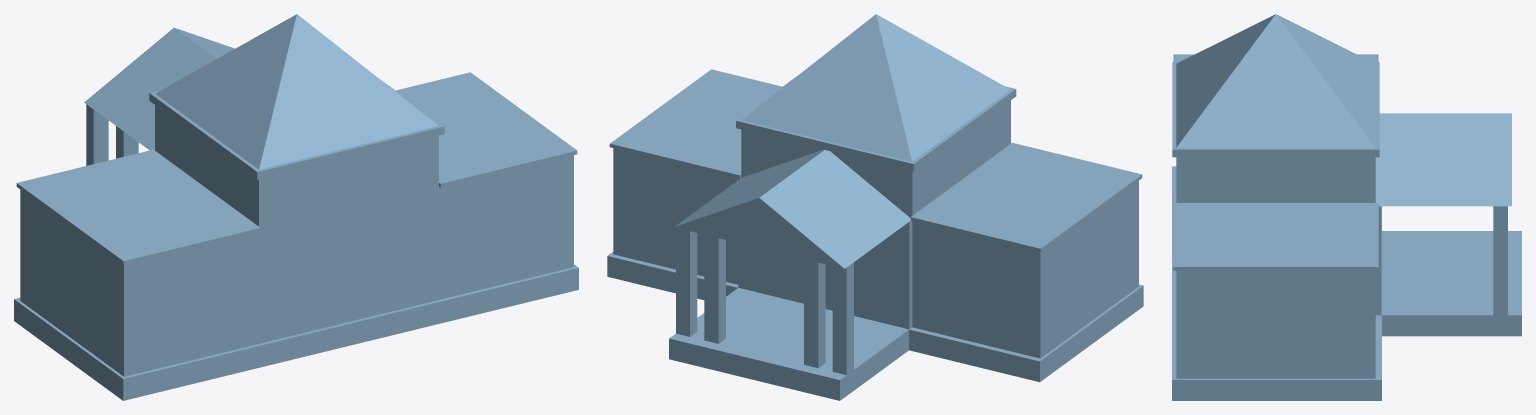
Rendered from TownHall01.fbx.
3 views of the same model, side by side, from view 1: azimuth 30°, elevation 25°; view 2: azimuth 150°, elevation 25°; view 3: azimuth 270°, elevation 25° (orthographic). The views are drawn at different scales.
Parts seen in each view (by area): view 1: Plane; view 2: Plane; view 3: Plane.
Boxes of the visible parts, x1,y1,x2,y2 form: Plane: [14, 14, 578, 400]; Plane: [607, 14, 1143, 400]; Plane: [1172, 14, 1521, 400].
Size of the model in its own units: 12.66 by 7.75 by 8.77.
